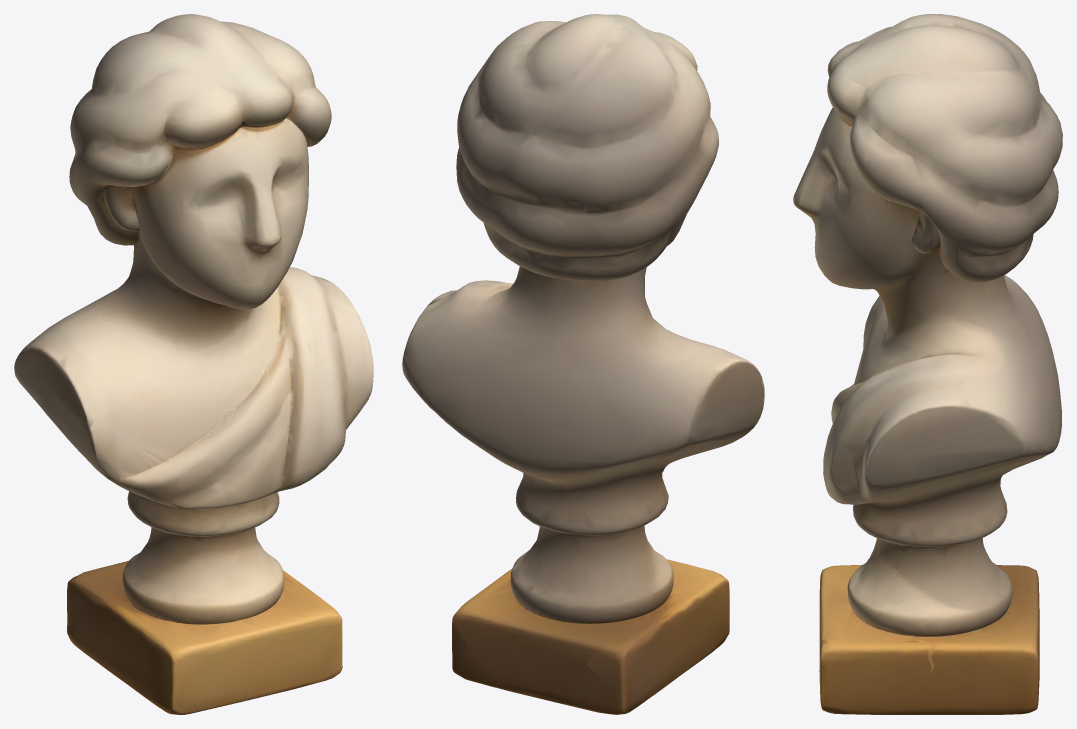
Rendered from bust.glb.
3 renders of one model, left to right at view 1: azimuth 30°, elevation 25°; view 2: azimuth 150°, elevation 25°; view 3: azimuth 270°, elevation 25°, orthographic.
Parts seen in each view (by area): view 1: model; view 2: model; view 3: model.
Part boxes in pixels (<box>): model: <box>14,14,373,714</box>; model: <box>402,14,764,714</box>; model: <box>793,14,1062,714</box>.
Size of the model in its own units: 0.8773 by 1.85 by 0.6974.
Materials: 1 (1 with a texture image).
